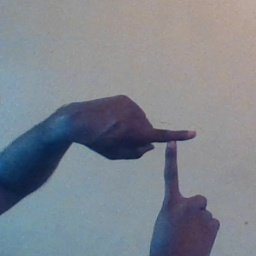T: (112, 101, 228, 219)
